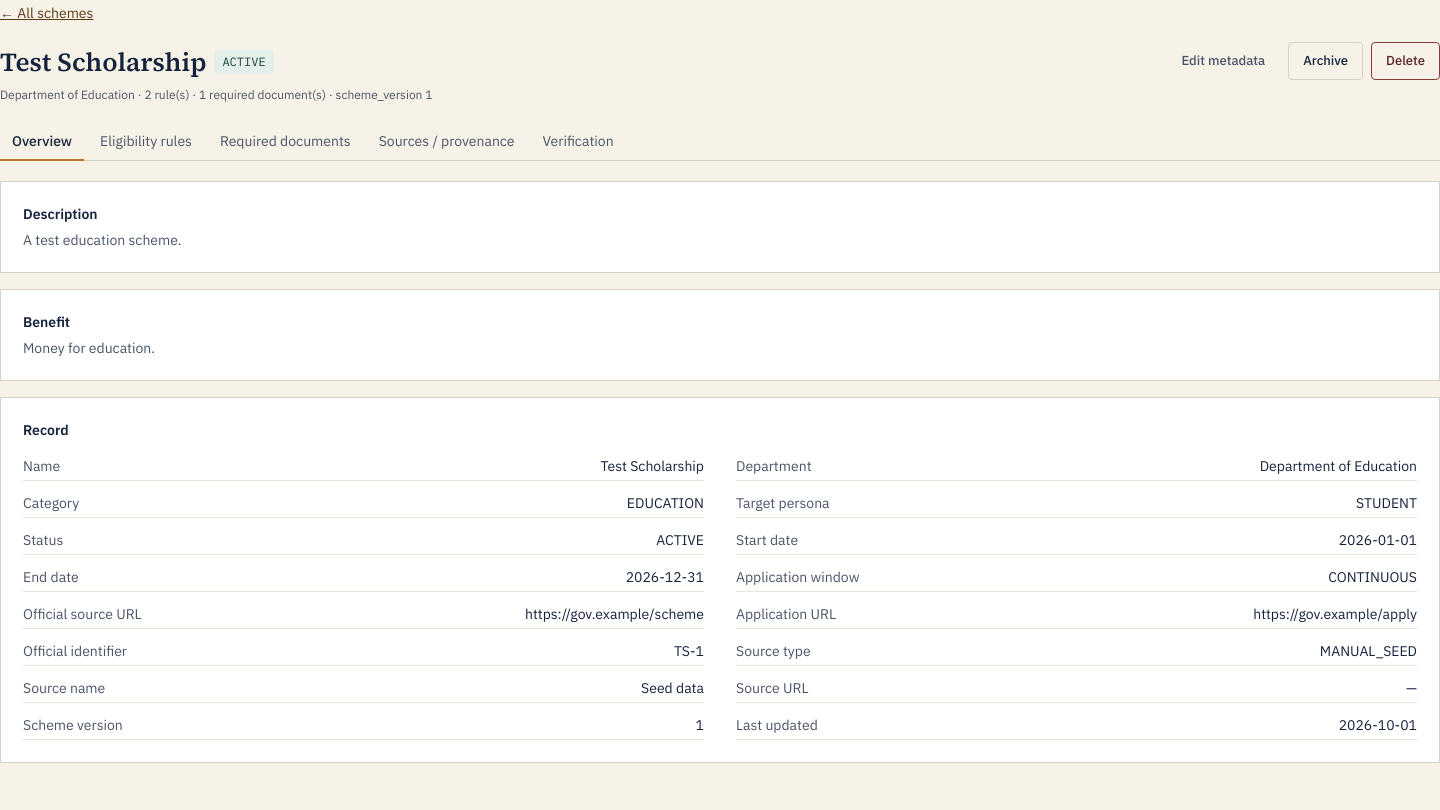
Test case: rules tab › deletes a rule after confirmation explains evidence protection
The image size is (1440, 810).
Check: the heading "Test Scholarship" is shown, box 0,42 -> 206,83
Click the button "Eligibility rules". click: (146, 142)
box: 88,123 -> 204,161
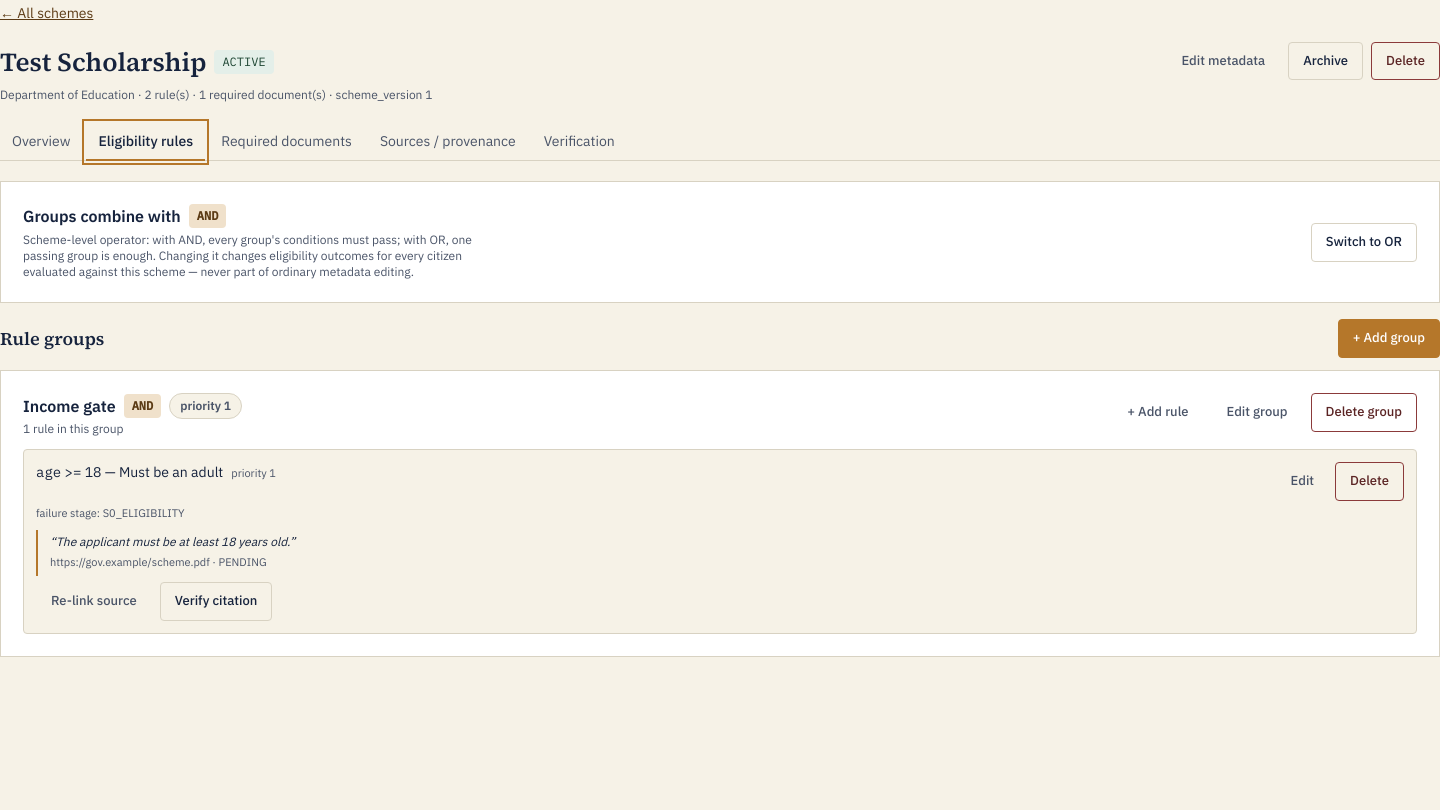
Check: the heading "Income gate AND priority 1" is shown, box 23,393 -> 242,419
Click the button with aria-label "Delete rule age". click: (1370, 481)
box: 1335,462 -> 1404,501
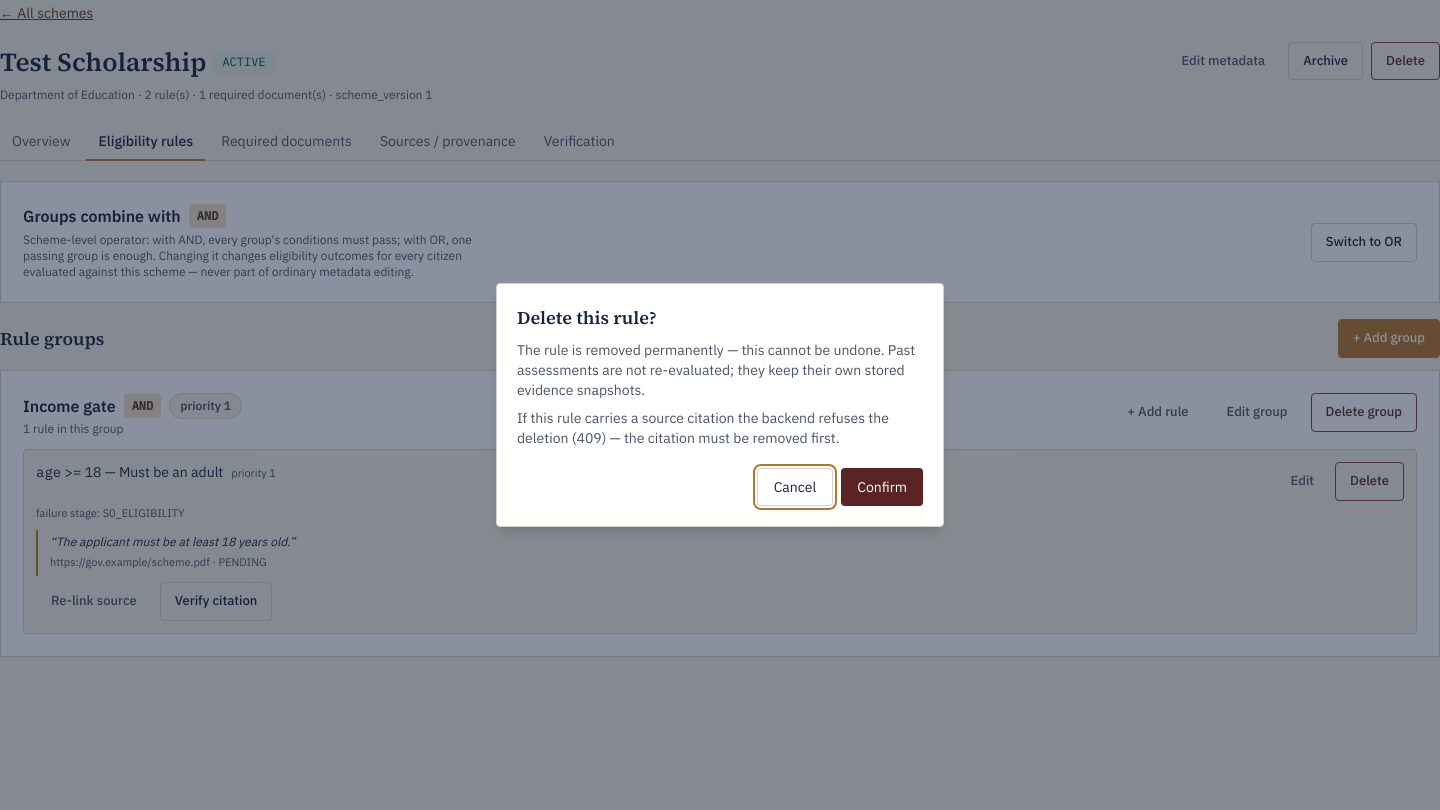
Check: the heading "Delete this rule?" is shown, box 517,305 -> 657,330
Click the button "Confirm". click: (882, 487)
box: 841,468 -> 923,506
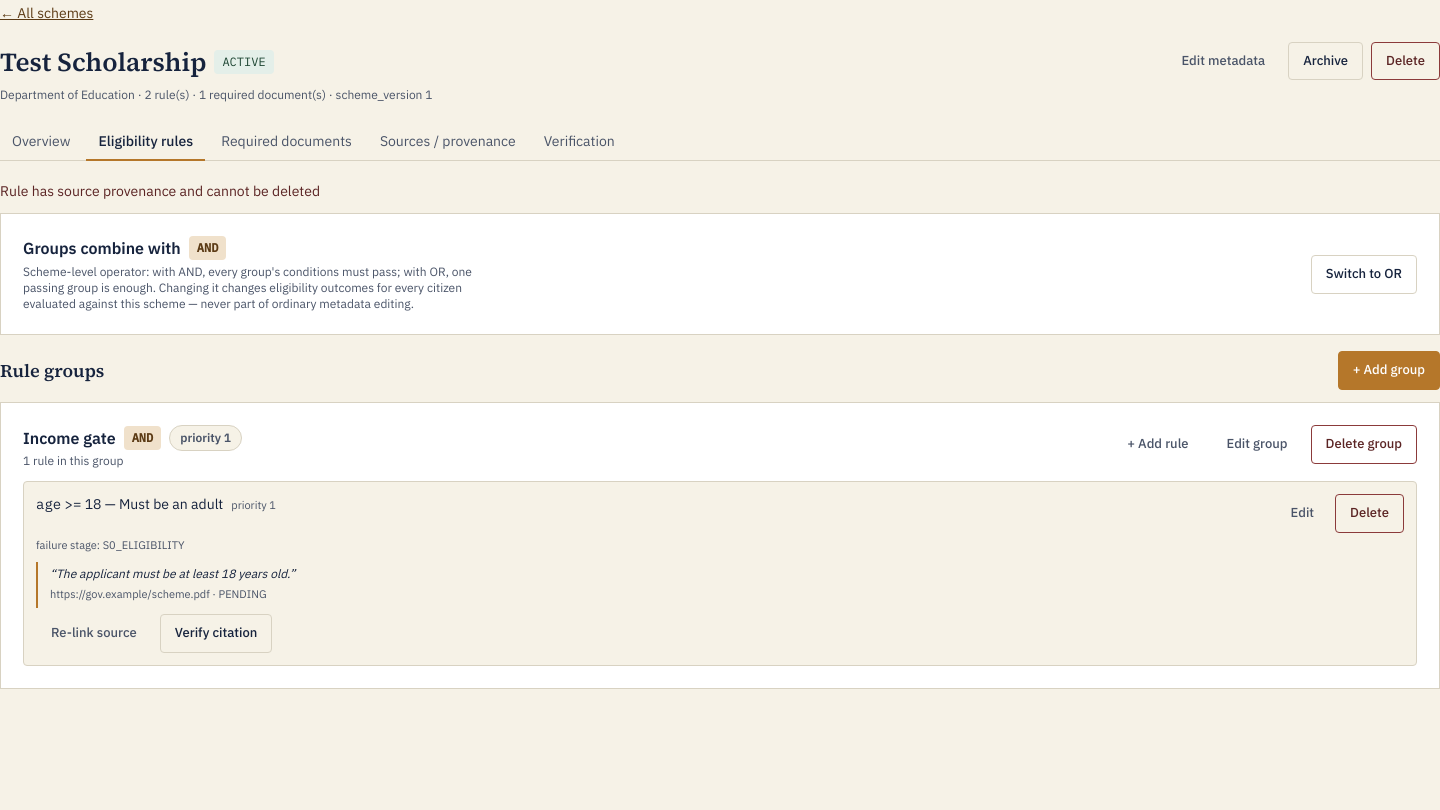
Check: the text "Rule has source provenance and cannot be deleted" is shown, box 0,182 -> 320,200
